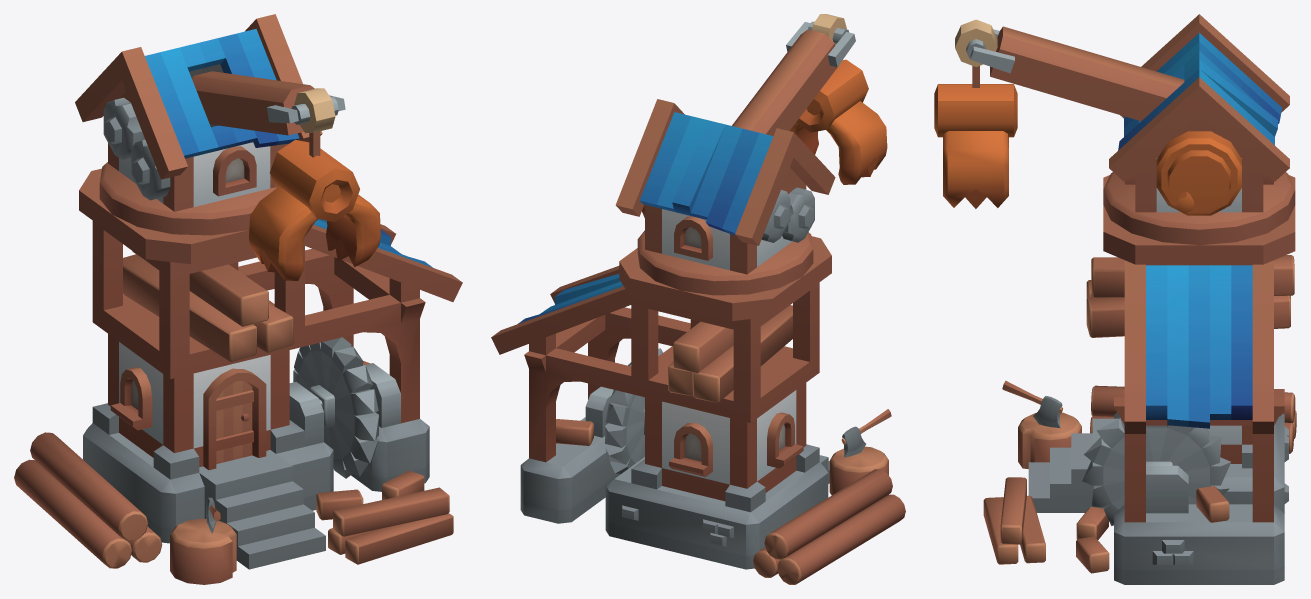
The model's file is building_lumbermill_blue.glb.
3 views of the same model, side by side, from view 1: azimuth 30°, elevation 25°; view 2: azimuth 150°, elevation 25°; view 3: azimuth 270°, elevation 25° (orthographic). The views are drawn at different scales.
Parts seen in each view (by area): view 1: building_lumbermill_blue, building_lumbermill_top_blue, building_lumbermill_saw_blue; view 2: building_lumbermill_blue, building_lumbermill_top_blue, building_lumbermill_saw_blue; view 3: building_lumbermill_blue, building_lumbermill_top_blue, building_lumbermill_saw_blue.
Boxes of the visible parts, left/top/right/bottom form: building_lumbermill_blue: left=14, top=168, right=462, bottom=584; building_lumbermill_top_blue: left=75, top=14, right=380, bottom=280; building_lumbermill_saw_blue: left=293, top=337, right=378, bottom=478; building_lumbermill_blue: left=491, top=236, right=905, bottom=584; building_lumbermill_top_blue: left=615, top=14, right=887, bottom=295; building_lumbermill_saw_blue: left=605, top=348, right=662, bottom=474; building_lumbermill_blue: left=983, top=175, right=1296, bottom=584; building_lumbermill_top_blue: left=934, top=14, right=1295, bottom=245; building_lumbermill_saw_blue: left=1082, top=417, right=1231, bottom=525.
Bounding box in the file's own units: 1.37 × 1.71 × 1.19.
1 material, 1 textured.
